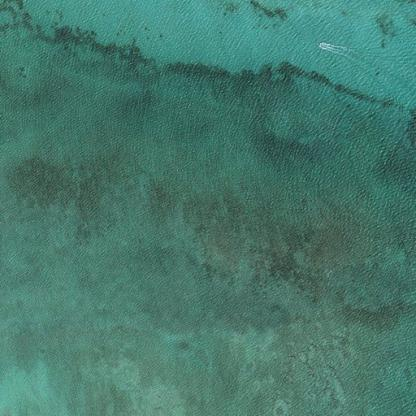ship: (314, 41, 318, 43)
